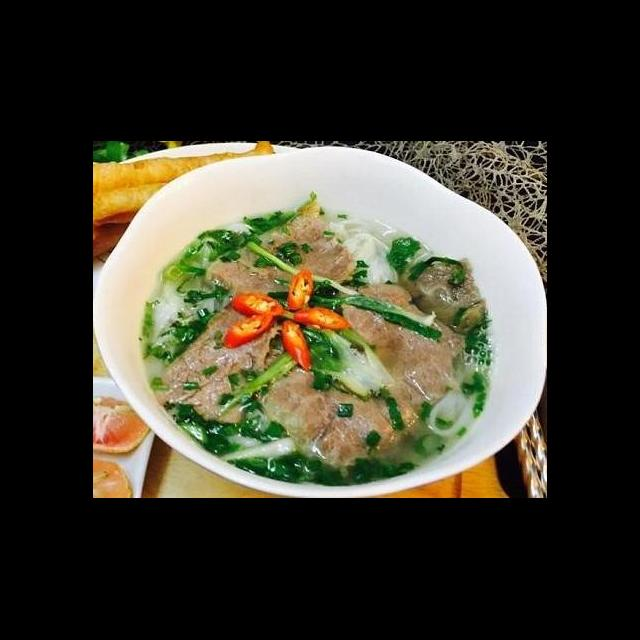banh pho: (142, 274, 239, 364), (321, 210, 406, 290), (427, 390, 481, 444)
pho bo: (93, 166, 545, 498)
thit bo: (146, 300, 290, 428), (335, 278, 470, 411), (253, 366, 423, 470), (202, 202, 358, 308), (402, 252, 494, 340)
